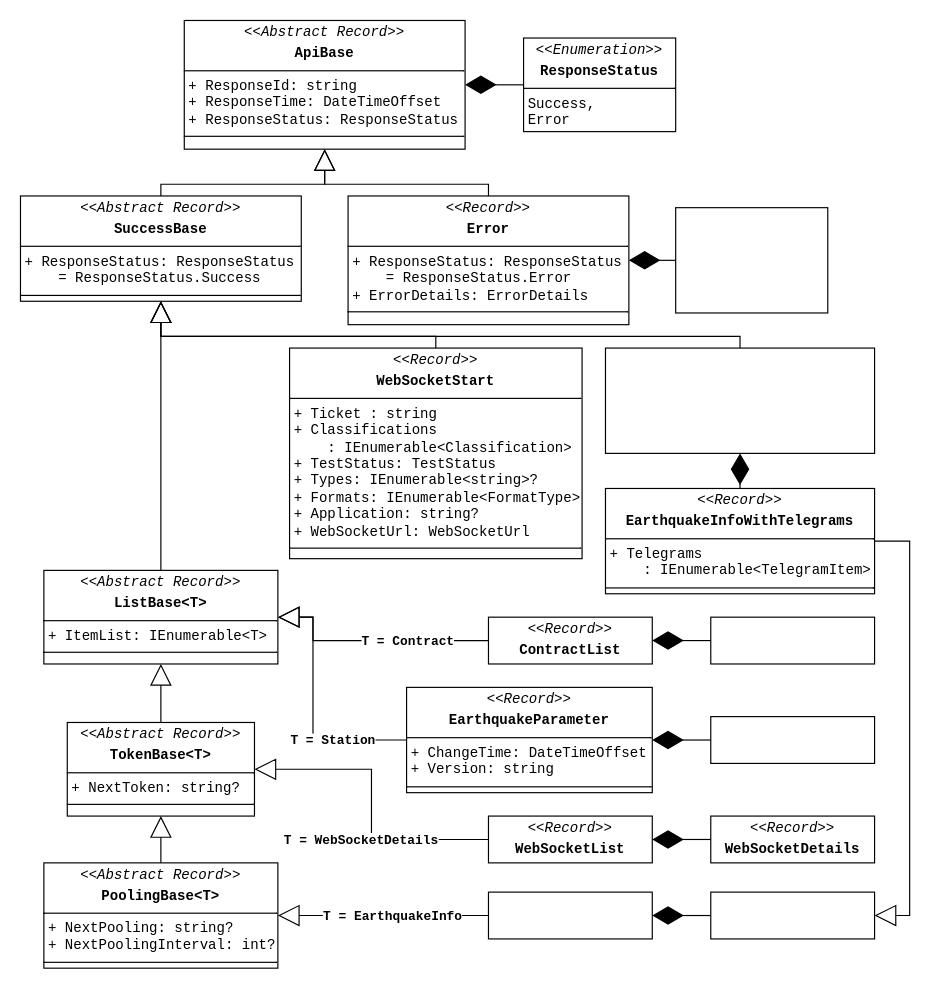
Image size: 951x989. Some labels were removed from this diagram. The box of each missing label's shape, as (x1, y1, x2, y2) in pixels:
<<Record>> Contract: (710, 616, 875, 664)
<<Record>> EarthquakeInfo: (710, 891, 875, 939)
<<Record>> ErrorDetails + Message: string + Code: int: (675, 207, 828, 313)
<<Record>> GdEarthquakeEvent + EarthquakeEvent : EarthquakeInfoWithTelegrams: (604, 347, 875, 453)
<<Record>> GdEarthquakeList: (487, 891, 652, 939)
<<Record>> Station: (710, 715, 875, 763)
